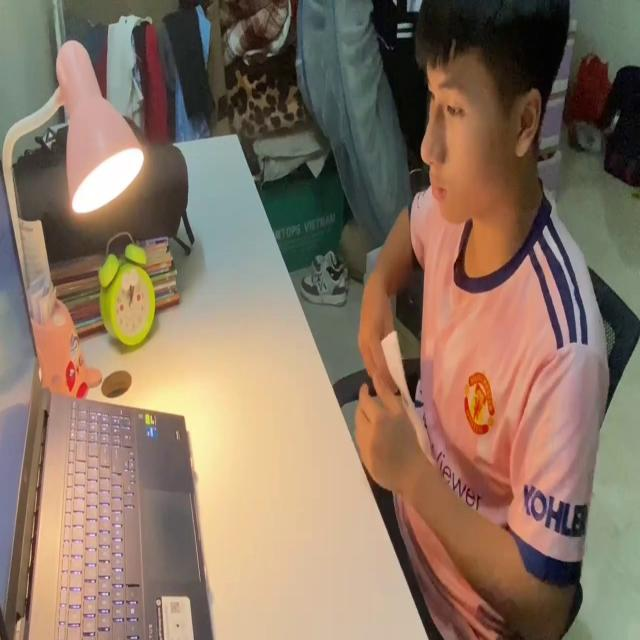book: (381, 312, 439, 500)
laptop: (1, 148, 217, 640)
student: (353, 0, 617, 640)
